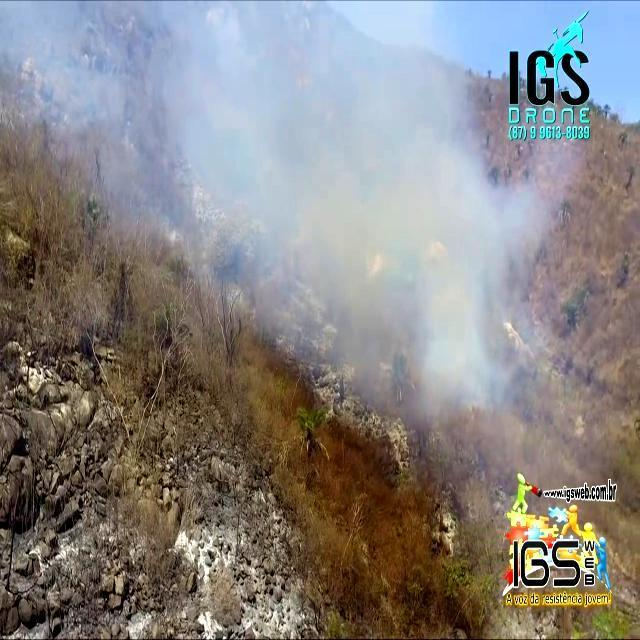Smoke: (71, 0, 558, 472)
